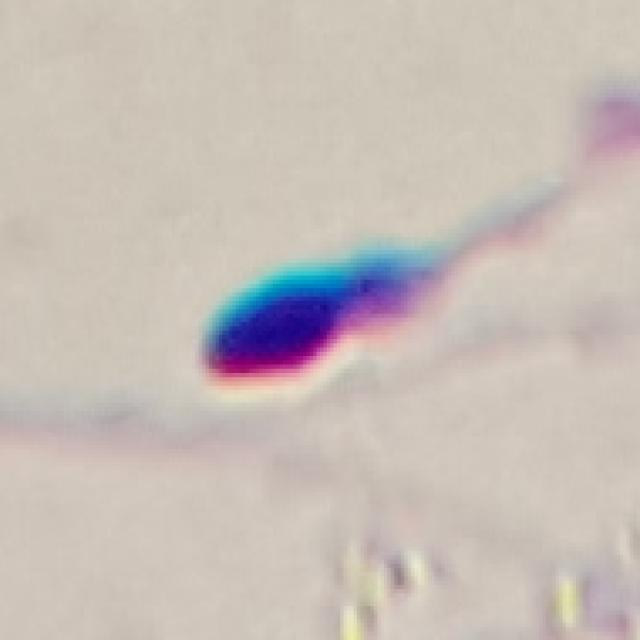abnormal sperm: (200, 200, 530, 384)
